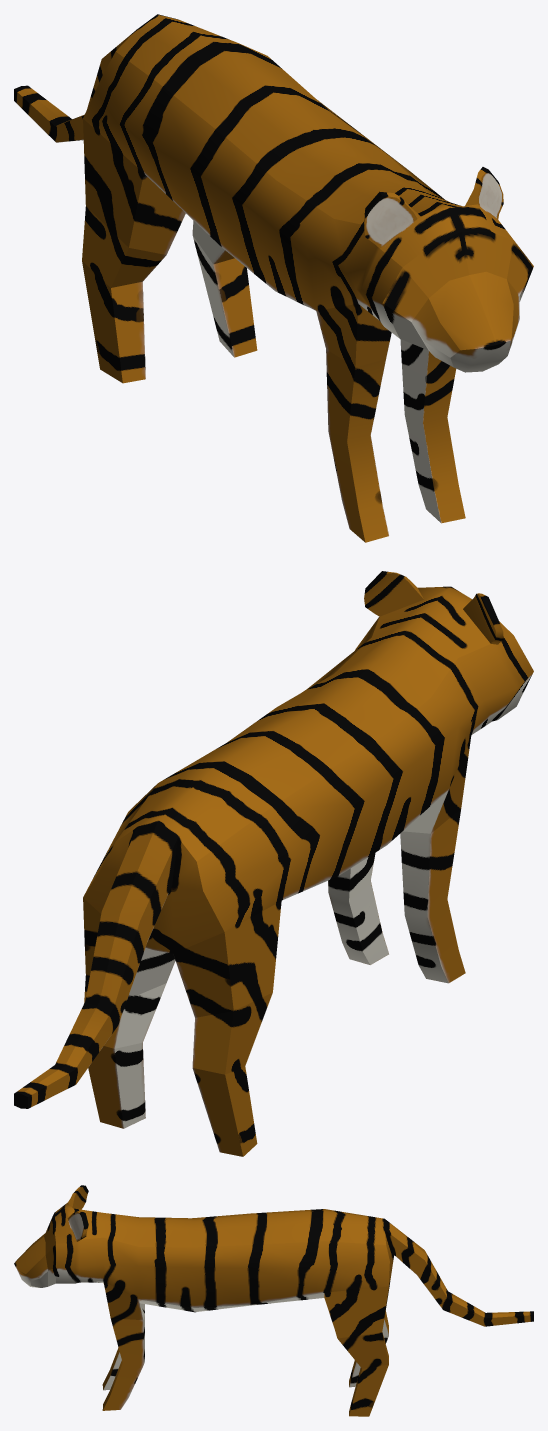
The model's file is tiger.fbx.
The picture shows the model from 3 angles, top to bottom: view 1: azimuth 30°, elevation 25°; view 2: azimuth 150°, elevation 25°; view 3: azimuth 270°, elevation 25°; orthographic projection. The views are drawn at different scales.
Visible parts, largest first — view 1: tiger; view 2: tiger; view 3: tiger.
Part boxes in pixels (box(x1,y1,x2,y2)): tiger: box(14, 14, 533, 542); tiger: box(14, 571, 533, 1156); tiger: box(14, 1185, 533, 1416).
Bounding box in the file's own units: 51.8 × 107 × 253.
